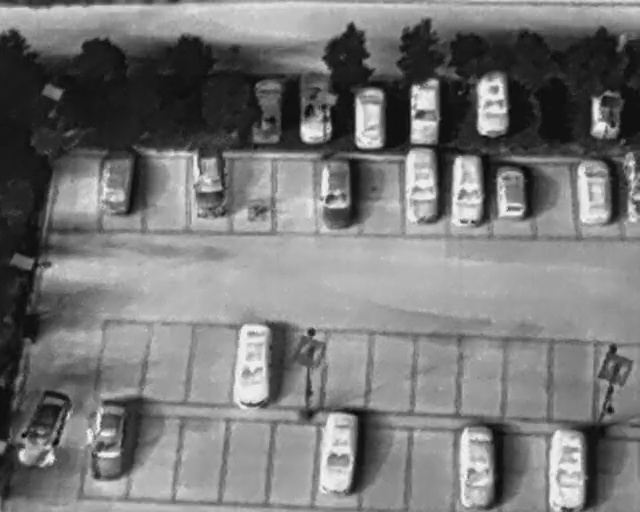Car: (11, 383, 77, 475), (315, 407, 363, 497), (84, 396, 133, 483), (232, 321, 277, 411), (93, 145, 143, 220), (547, 427, 589, 512), (459, 424, 497, 512), (404, 146, 440, 224), (320, 153, 354, 231), (575, 157, 613, 226), (300, 69, 334, 145), (473, 72, 511, 139), (192, 145, 226, 219), (407, 76, 442, 147), (452, 153, 484, 226), (352, 86, 387, 150), (253, 77, 283, 143), (496, 165, 527, 223), (589, 91, 622, 138)
